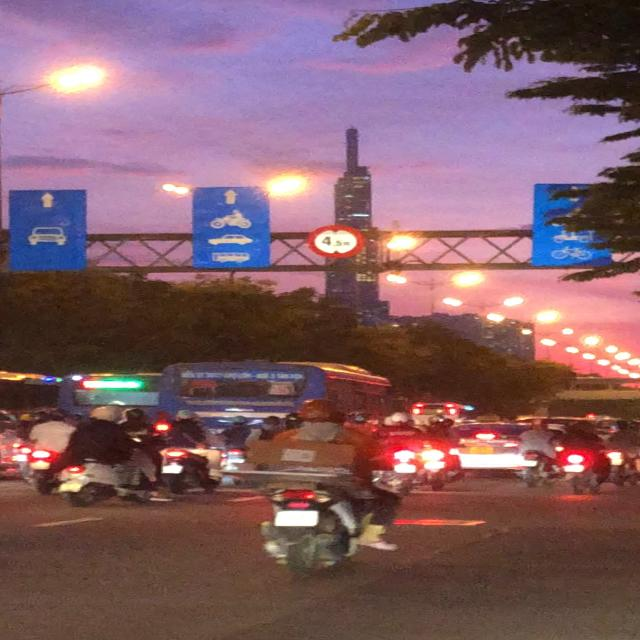Bien bao han che chieu cao: (306, 220, 368, 260)
